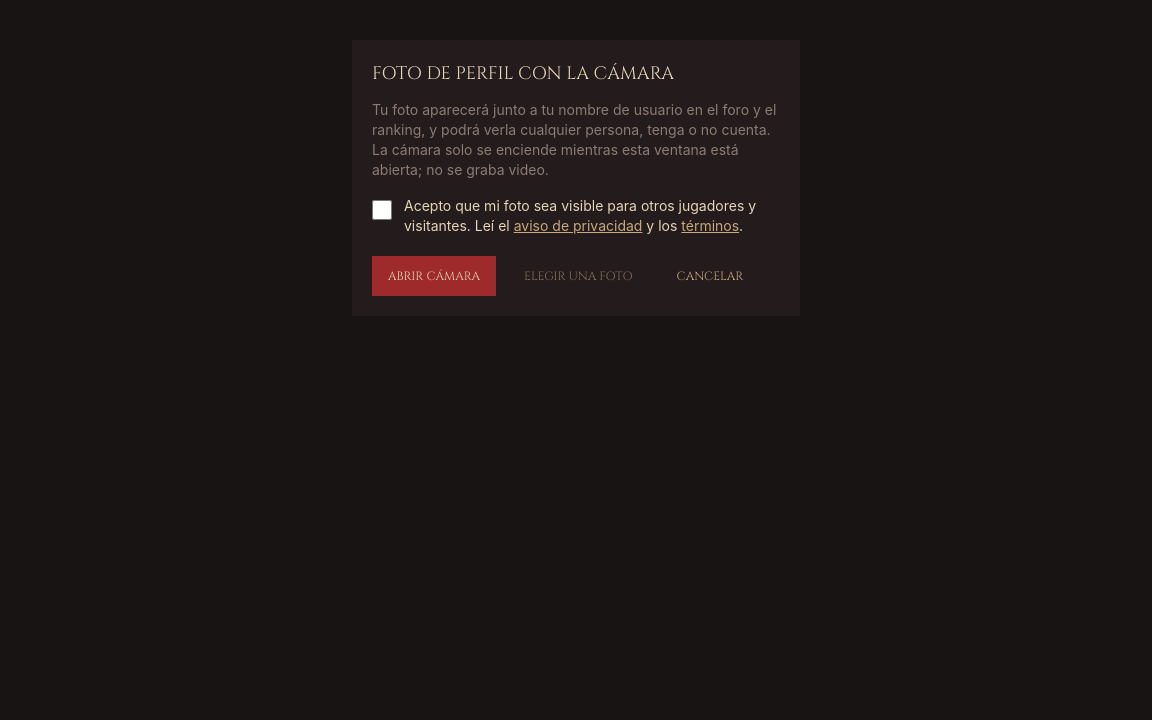
Test: explains a denied permission and keeps the file option available
Click the checkbox: (382, 210) [372,200,392,220]
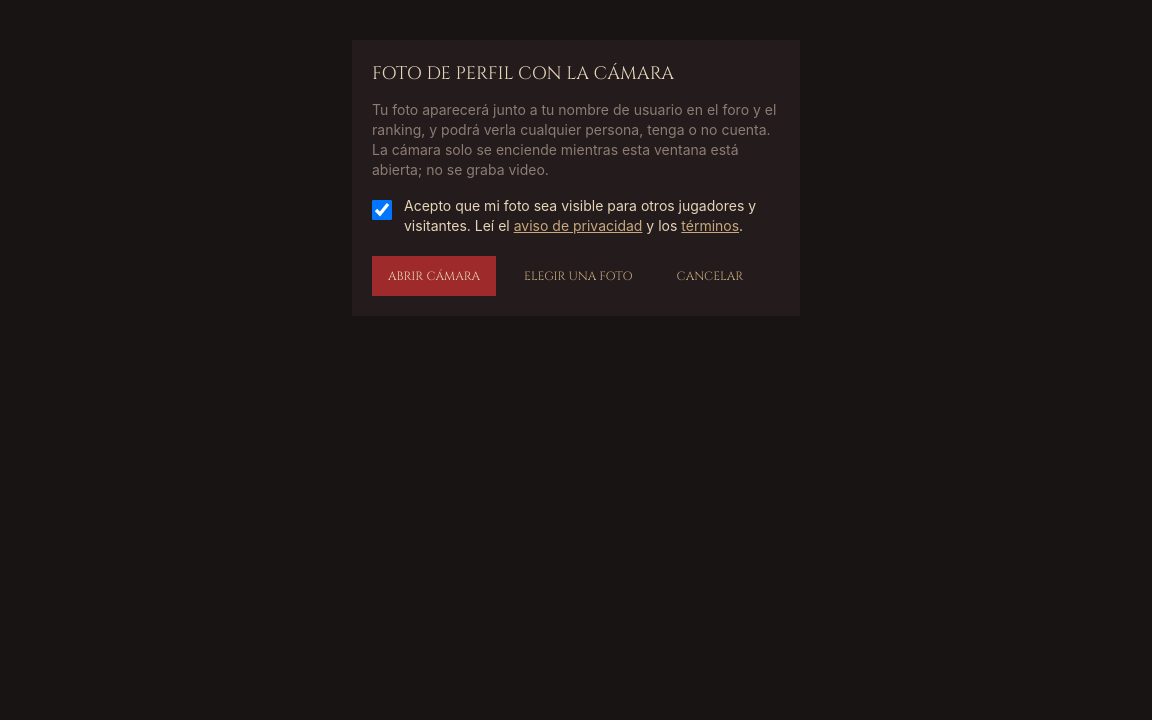
Click the button "Abrir cámara": (434, 276) [372,256,496,296]
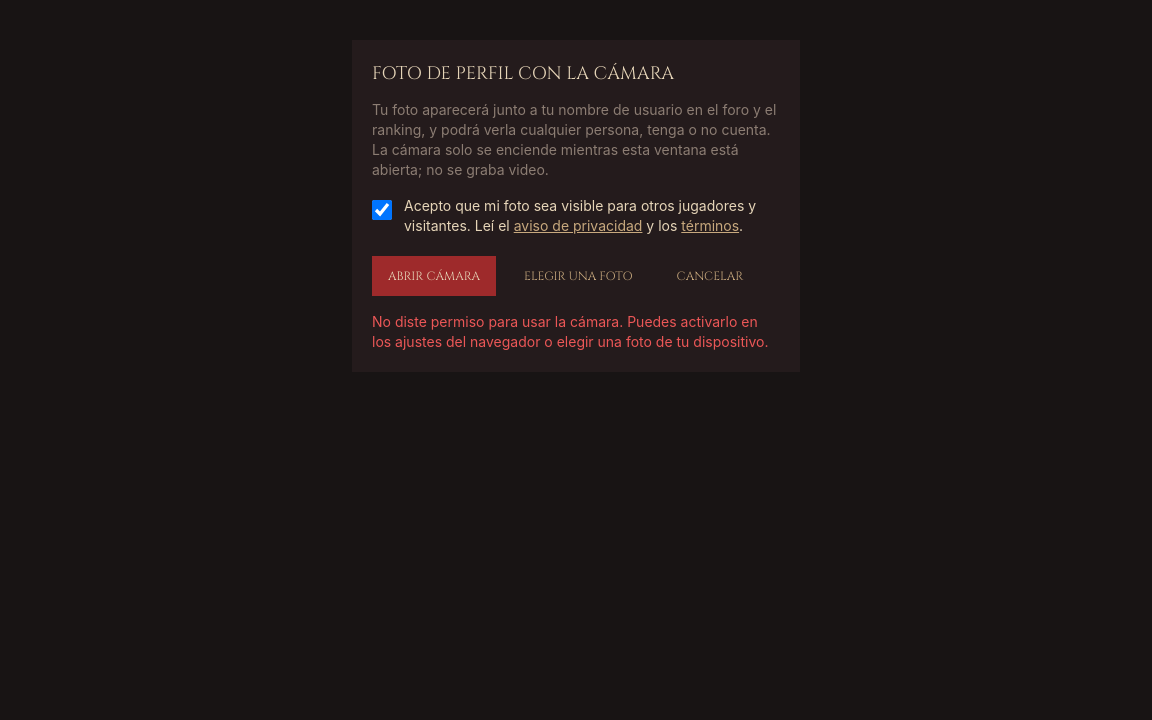
Check: the file field labelled "Elegir una foto" is enabled, box [524,268,632,284]
Check: the message shows "No diste permiso", box [372,313,768,350]
